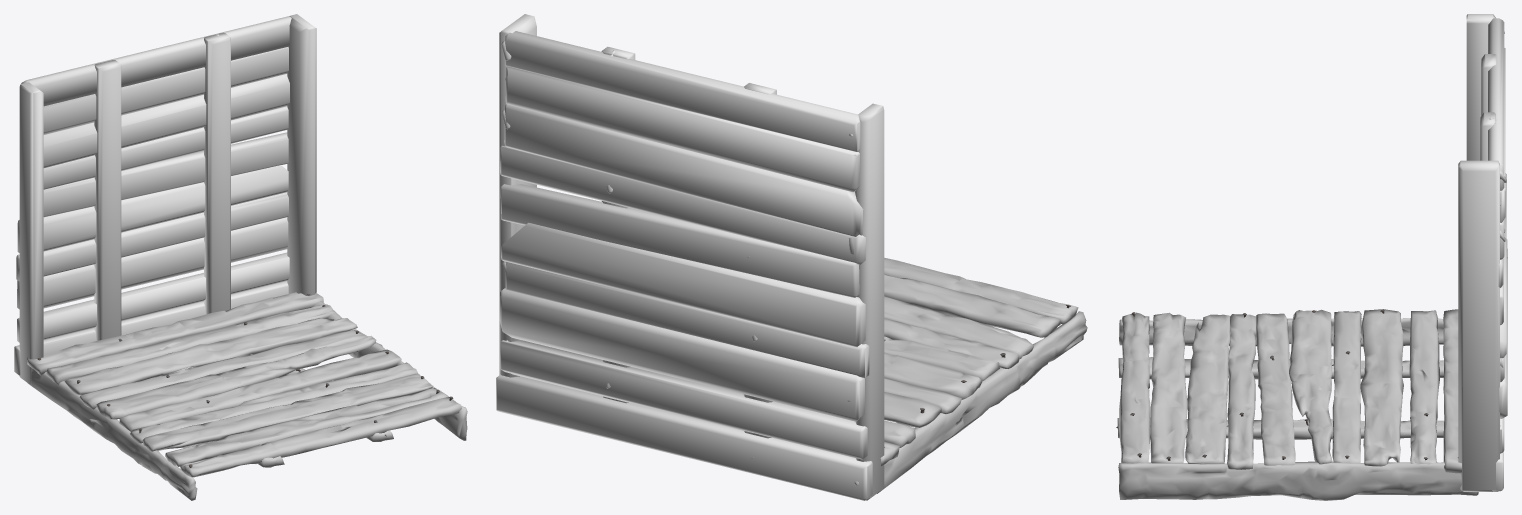
Rendered from SM_WoodenFloor_C.fbx.
The picture shows the model from 3 angles, left to right: view 1: azimuth 30°, elevation 25°; view 2: azimuth 150°, elevation 25°; view 3: azimuth 270°, elevation 25°; orthographic projection. The views are drawn at different scales.
Parts seen in each view (by area): view 1: SM_WoodenFloor_C_ConvexHulls, SM_WoodenFloor_C; view 2: SM_WoodenFloor_C_ConvexHulls, SM_WoodenFloor_C; view 3: SM_WoodenFloor_C, SM_WoodenFloor_C_ConvexHulls.
Boxes of the visible parts, left/top/right/bottom form: SM_WoodenFloor_C_ConvexHulls: left=14, top=14, right=316, bottom=384; SM_WoodenFloor_C: left=27, top=292, right=467, bottom=500; SM_WoodenFloor_C_ConvexHulls: left=496, top=14, right=884, bottom=500; SM_WoodenFloor_C: left=877, top=258, right=1087, bottom=493; SM_WoodenFloor_C: left=1116, top=309, right=1478, bottom=500; SM_WoodenFloor_C_ConvexHulls: left=1458, top=14, right=1507, bottom=491.
Bounding box in the file's own units: 3.06 × 3.12 × 3.27.
